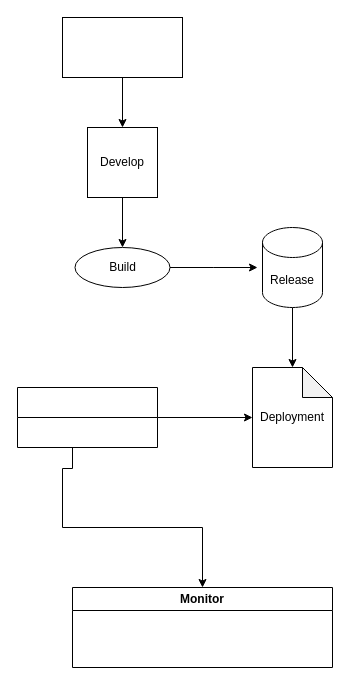
This 350x685 diagram has some shape labels left out. Each missing label, with the box of its shape:
opertae: (16, 386, 158, 448)
Plan: (62, 16, 182, 78)
